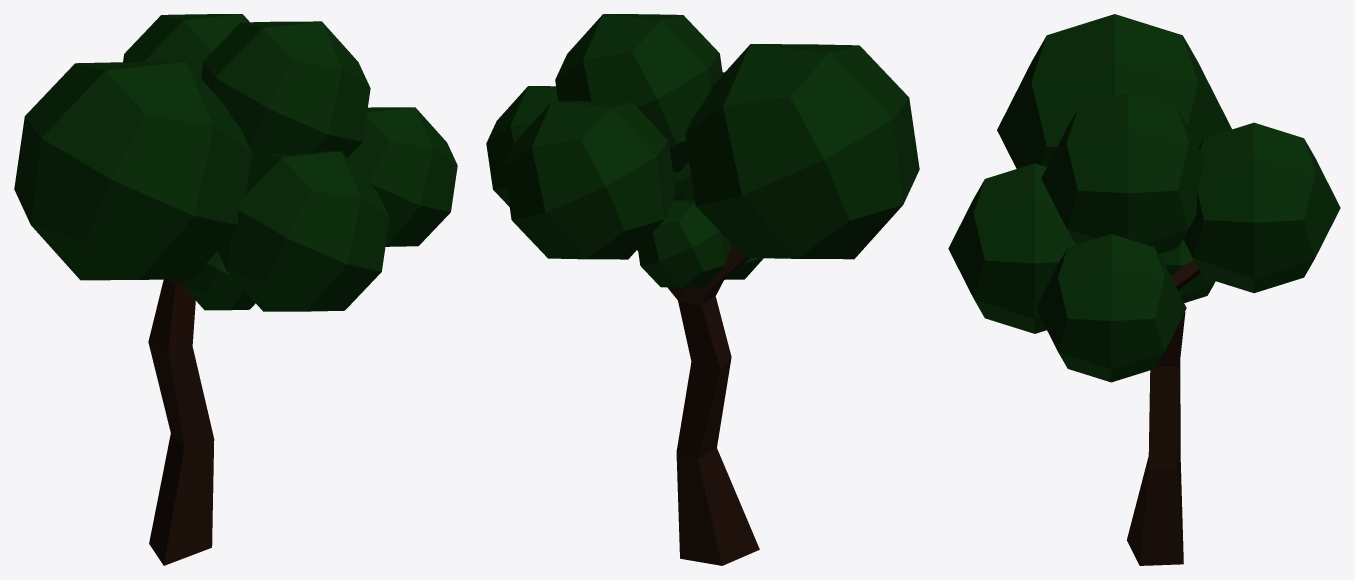
The model's file is tree 3.1.FBX.
The picture shows the model from 3 angles, left to right: view 1: azimuth 30°, elevation 25°; view 2: azimuth 150°, elevation 25°; view 3: azimuth 270°, elevation 25°; orthographic projection. The views are drawn at different scales.
Parts seen in each view (by area): view 1: Box004, Box007, Box006, Box002, Box003, Box005, Box008; view 2: Box004, Box005, Box006, Box002, Box009, Box003, Box007; view 3: Box005, Box006, Box004, Box003, Box007, Box002, Box009.
Boxes of the visible parts, box(x1,y1,x2,y2) form: Box004: box(14, 62, 251, 280); Box007: box(217, 151, 389, 311); Box006: box(201, 21, 370, 161); Box002: box(148, 279, 214, 565); Box003: box(347, 107, 457, 246); Box005: box(123, 14, 249, 77); Box008: box(180, 251, 255, 310); Box004: box(685, 44, 919, 259); Box005: box(504, 101, 676, 259); Box006: box(555, 14, 722, 172); Box002: box(637, 247, 759, 565); Box009: box(638, 200, 731, 287); Box003: box(486, 86, 557, 206); Box007: box(673, 72, 724, 200); Box005: box(1183, 122, 1340, 293); Box006: box(1041, 93, 1204, 253); Box004: box(997, 14, 1231, 168); Box003: box(1036, 234, 1186, 382); Box007: box(948, 163, 1076, 333); Box002: box(1127, 259, 1200, 565); Box009: box(1159, 239, 1215, 302).
Bounding box in the file's own units: 71.95 × 85.52 × 61.35.
